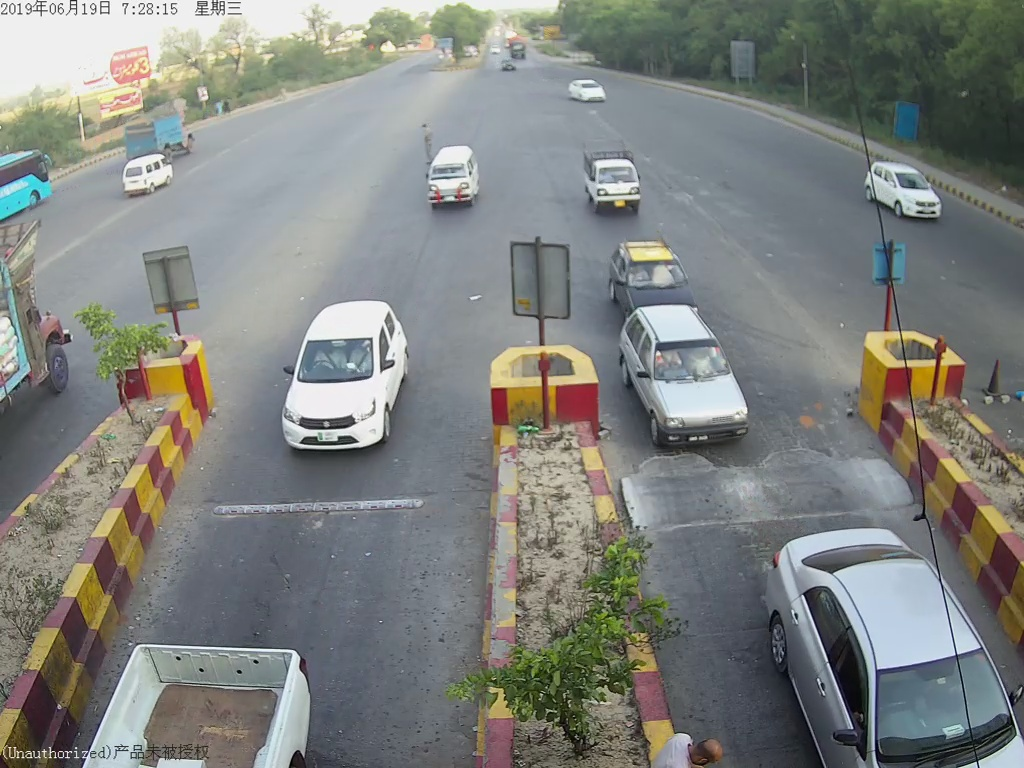Cat-1: (284, 298, 415, 469), (614, 309, 760, 450), (576, 152, 653, 222), (607, 240, 695, 295), (419, 148, 484, 209)
